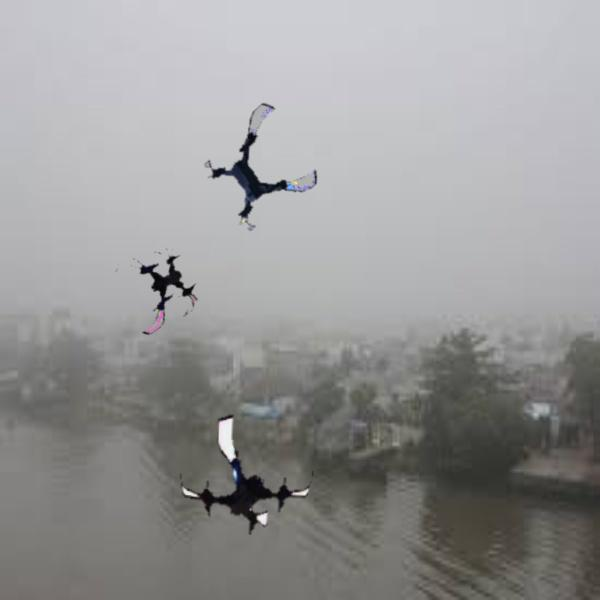drone: (180, 404, 320, 544), (203, 114, 314, 225), (113, 243, 203, 333)
